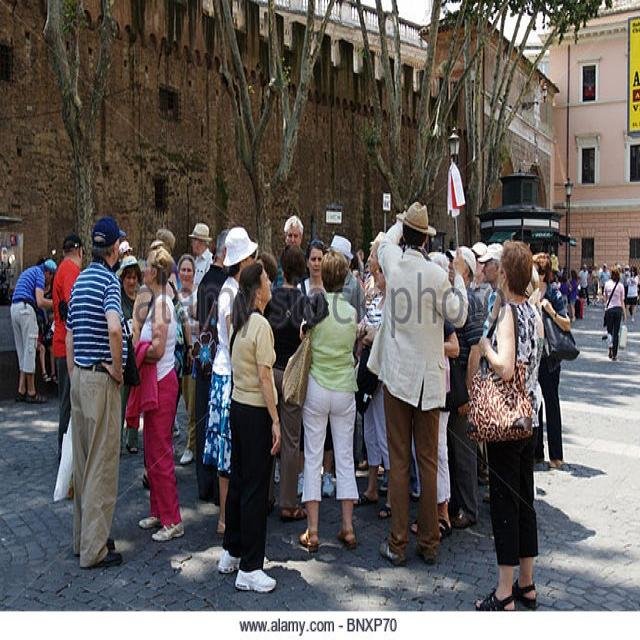body: (31, 213, 639, 544), (362, 198, 472, 571), (462, 238, 547, 614), (62, 212, 134, 574), (279, 248, 362, 558), (215, 258, 284, 596), (200, 223, 259, 537), (129, 245, 186, 542), (263, 244, 309, 522), (443, 244, 487, 532), (353, 249, 394, 521), (192, 226, 231, 510), (530, 251, 572, 471), (49, 231, 85, 471), (7, 254, 59, 406), (172, 252, 202, 467), (475, 240, 504, 338), (600, 265, 627, 362), (115, 254, 144, 322)
